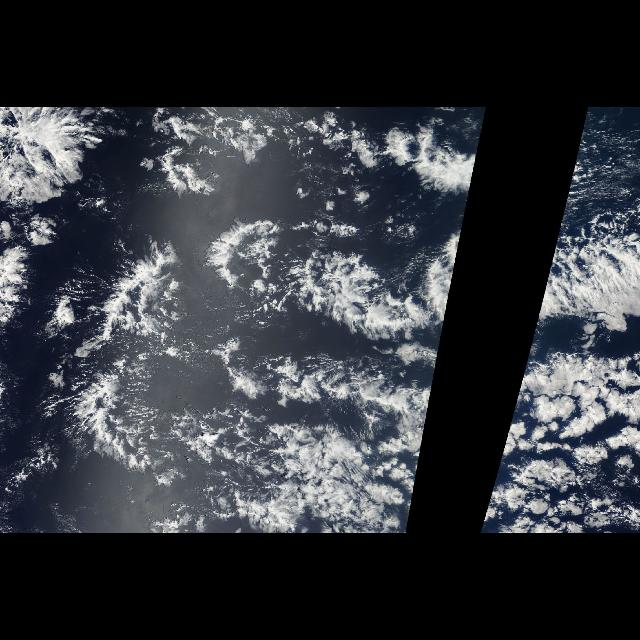Fish: (47, 223, 445, 505)
Flower: (97, 119, 471, 482)
